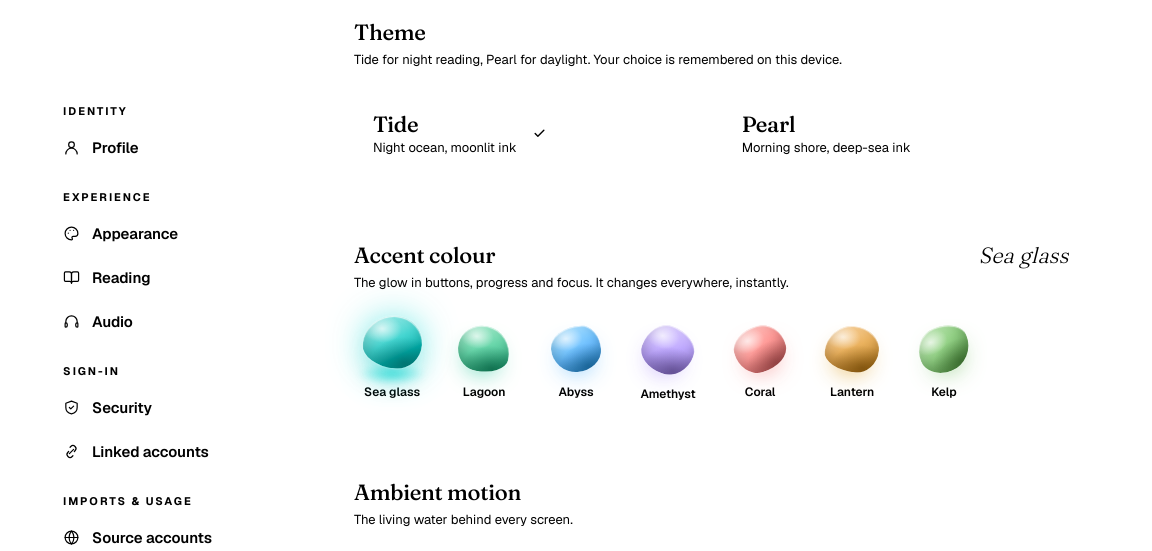
Test: Account settings › applies an accent pebble and syncs it to the account
(page scrolled)
Click the radio button with aria-label "Accent: Coral". click: point(760, 360)
box: x1=722 y1=314 x2=798 y2=408
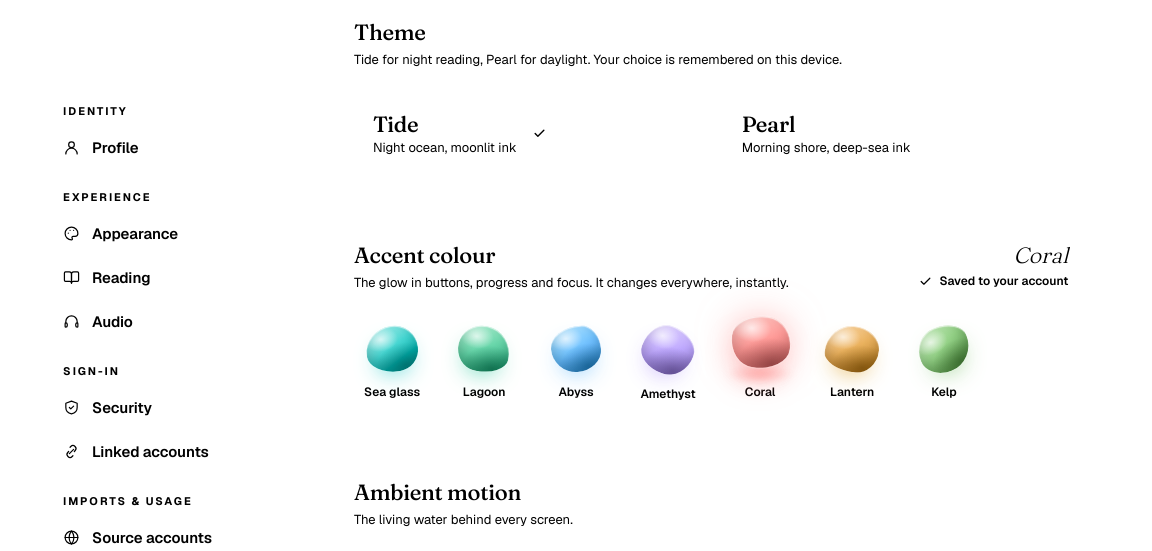
Check: the text "Saved to your account" is shown, box x1=919 y1=272 x2=1068 y2=290
